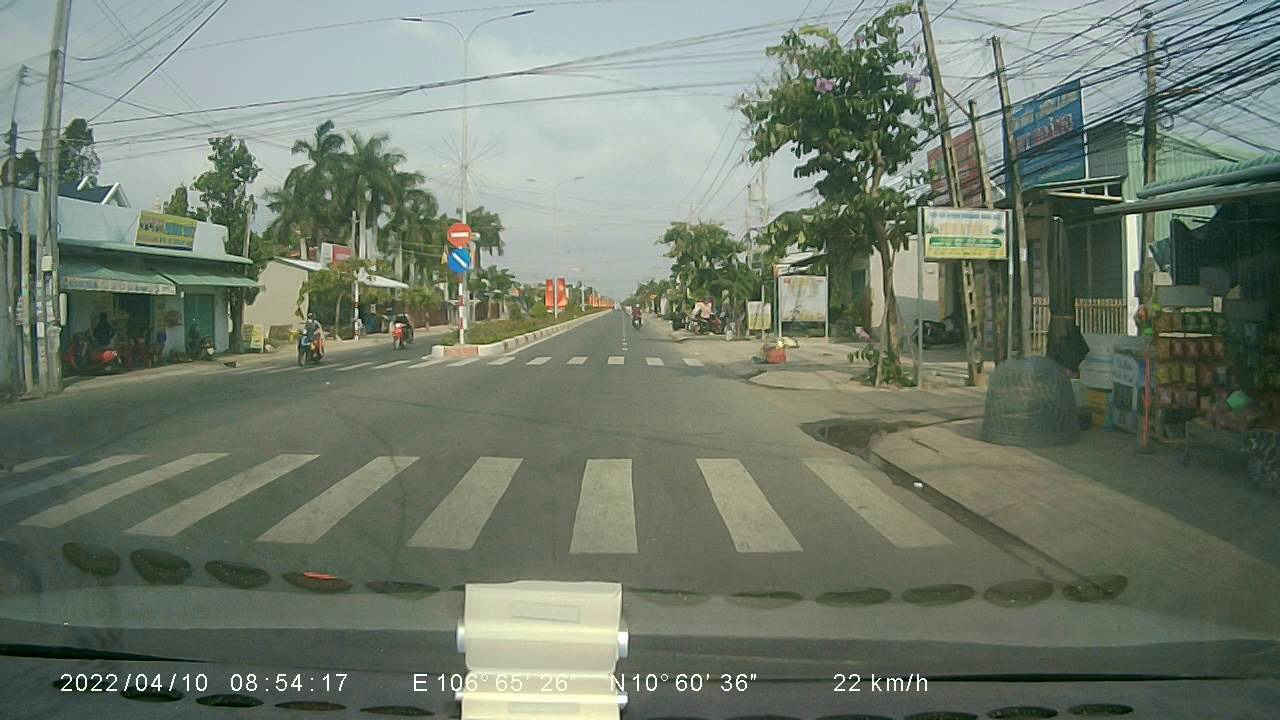Cam di nguoc chieu: (445, 218, 473, 244)
Huong di phai re phai: (446, 248, 474, 273)
